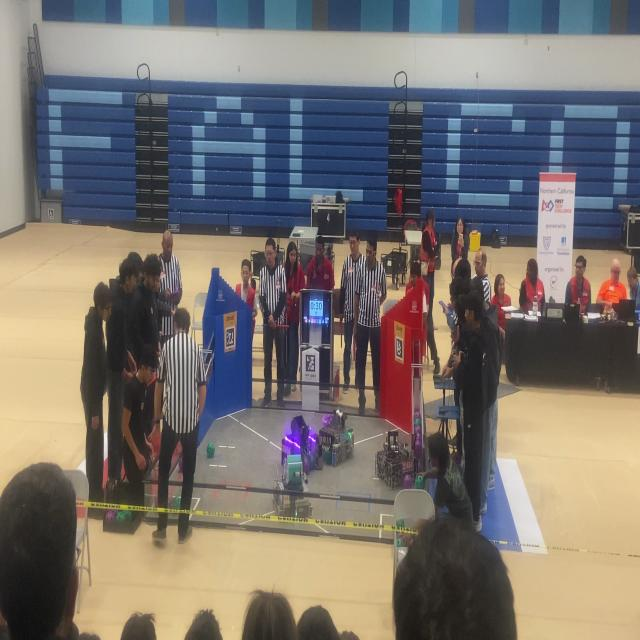artifact_green: (415, 474, 425, 490), (404, 474, 412, 489), (207, 443, 215, 458), (171, 496, 180, 509), (116, 511, 125, 522), (123, 510, 132, 521), (396, 519, 404, 528), (414, 418, 421, 427), (397, 537, 403, 547)
artifact_purple: (404, 474, 412, 489), (106, 510, 115, 521), (414, 410, 421, 419), (179, 455, 182, 473)
